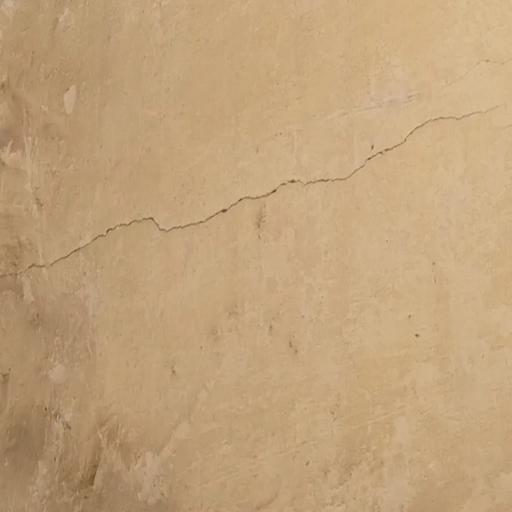minor_crack: (0, 93, 512, 288)
